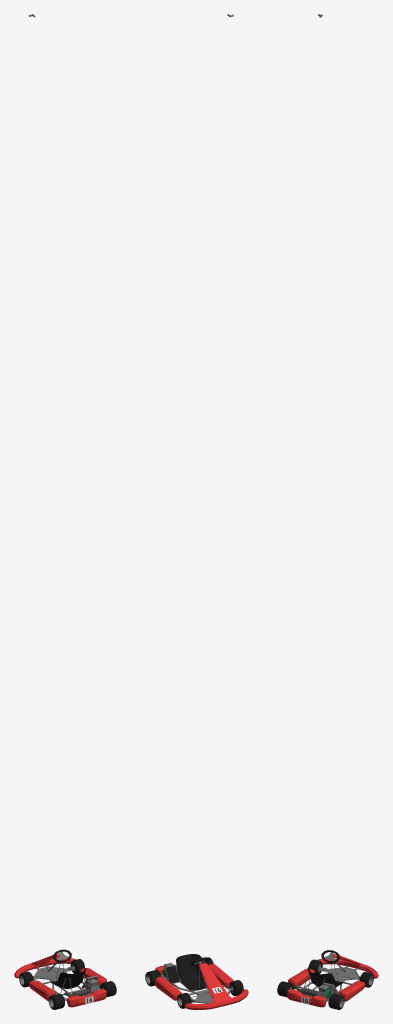
Rendered from redkart.glb.
The picture shows the model from 3 angles, left to right: view 1: azimuth 30°, elevation 25°; view 2: azimuth 210°, elevation 25°; view 3: azimuth 330°, elevation 25°; orthographic projection. The views are drawn at different scales.
Parts seen in each view (by area): view 1: Plane, Cube.004, Plane.001, Cube.003, Cube.002; view 2: Cube.004, Plane.001, Plane, Cube.001; view 3: Plane, Cube.004, Cube.003, Plane.001, Cube.001, Cube.002.
Part boxes in pixels (bbox=[...]): Plane: bbox=[29, 14, 90, 1000]; Cube.004: bbox=[14, 953, 75, 978]; Plane.001: bbox=[50, 968, 86, 989]; Cube.003: bbox=[67, 989, 106, 1007]; Cube.002: bbox=[29, 980, 55, 1001]; Cube.004: bbox=[184, 962, 248, 1009]; Plane.001: bbox=[176, 954, 207, 990]; Plane: bbox=[161, 14, 233, 1003]; Cube.001: bbox=[155, 976, 181, 1000]; Plane: bbox=[298, 14, 360, 1001]; Cube.004: bbox=[317, 954, 378, 978]; Cube.003: bbox=[287, 989, 326, 1007]; Plane.001: bbox=[307, 967, 343, 987]; Cube.001: bbox=[338, 981, 365, 1001]; Cube.002: bbox=[288, 968, 314, 989].
Bounding box in the file's own units: 6.11 × 90.71 × 8.56.
